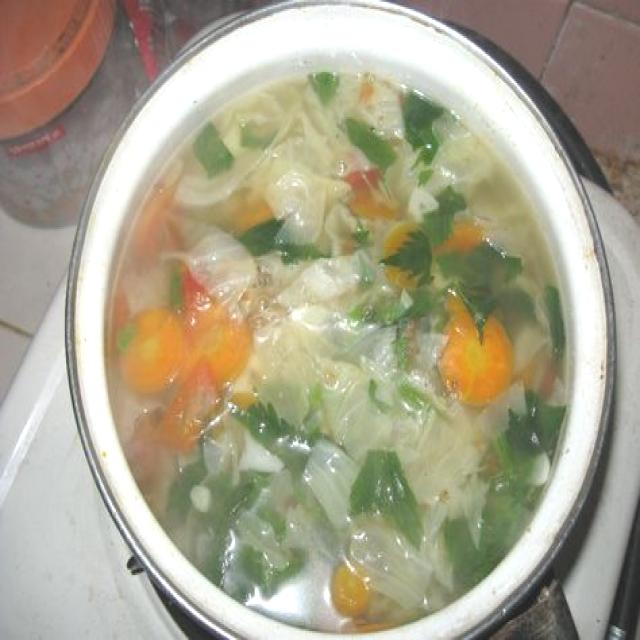sop: (103, 70, 578, 640)
